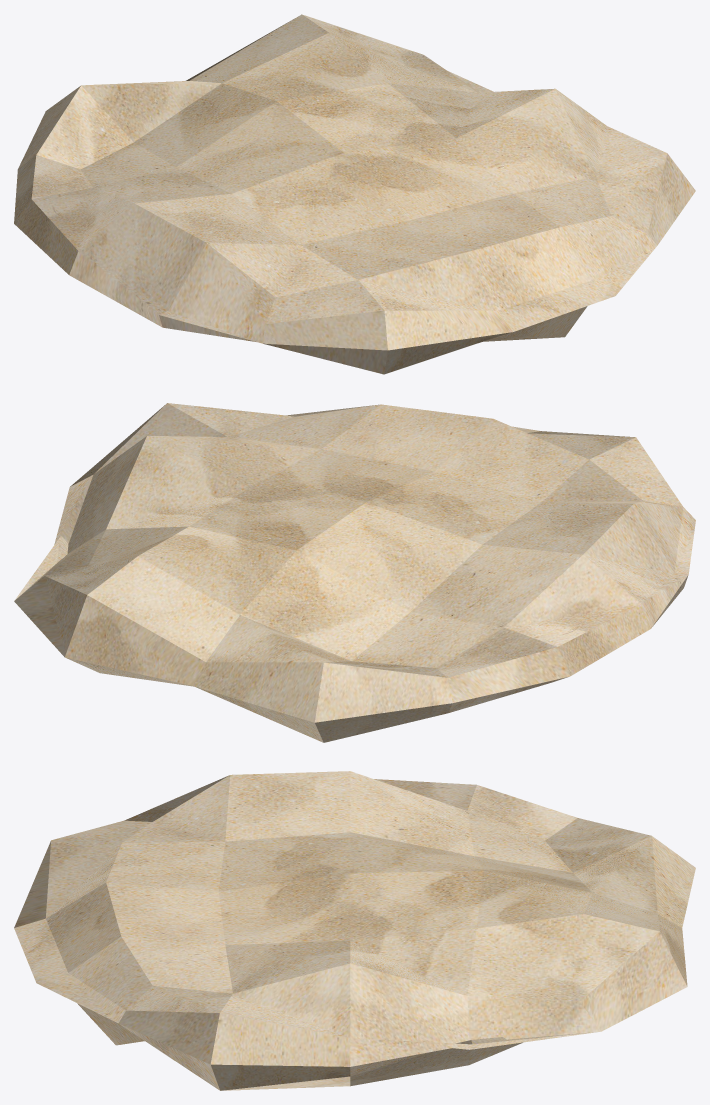
The model's file is sand_01.fbx.
3 renders of one model, top to bottom at view 1: azimuth 30°, elevation 25°; view 2: azimuth 150°, elevation 25°; view 3: azimuth 270°, elevation 25°, orthographic. The views are drawn at different scales.
Visible parts, largest first — view 1: sand; view 2: sand; view 3: sand.
Boxes of the visible parts, <box> form: sand: <box>14,14,695,374</box>; sand: <box>14,403,695,742</box>; sand: <box>14,771,695,1090</box>.
Size of the model in its own units: 4.69 by 4.97 by 1.1.
